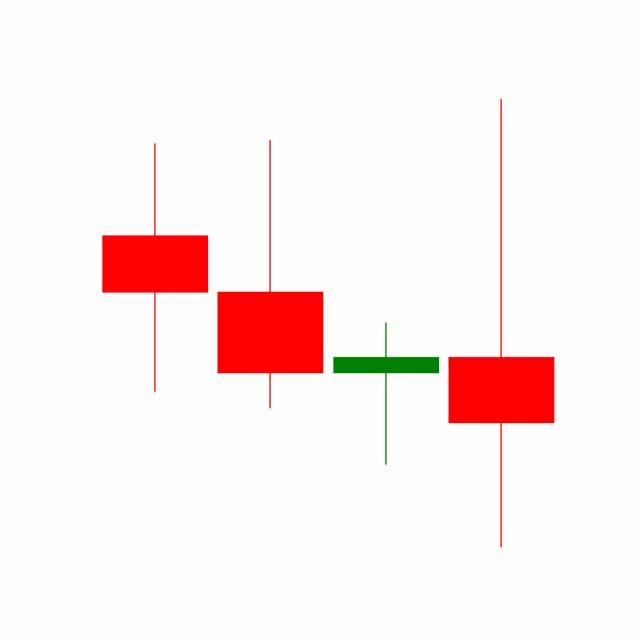Hanging Man: (444, 95, 560, 553)
